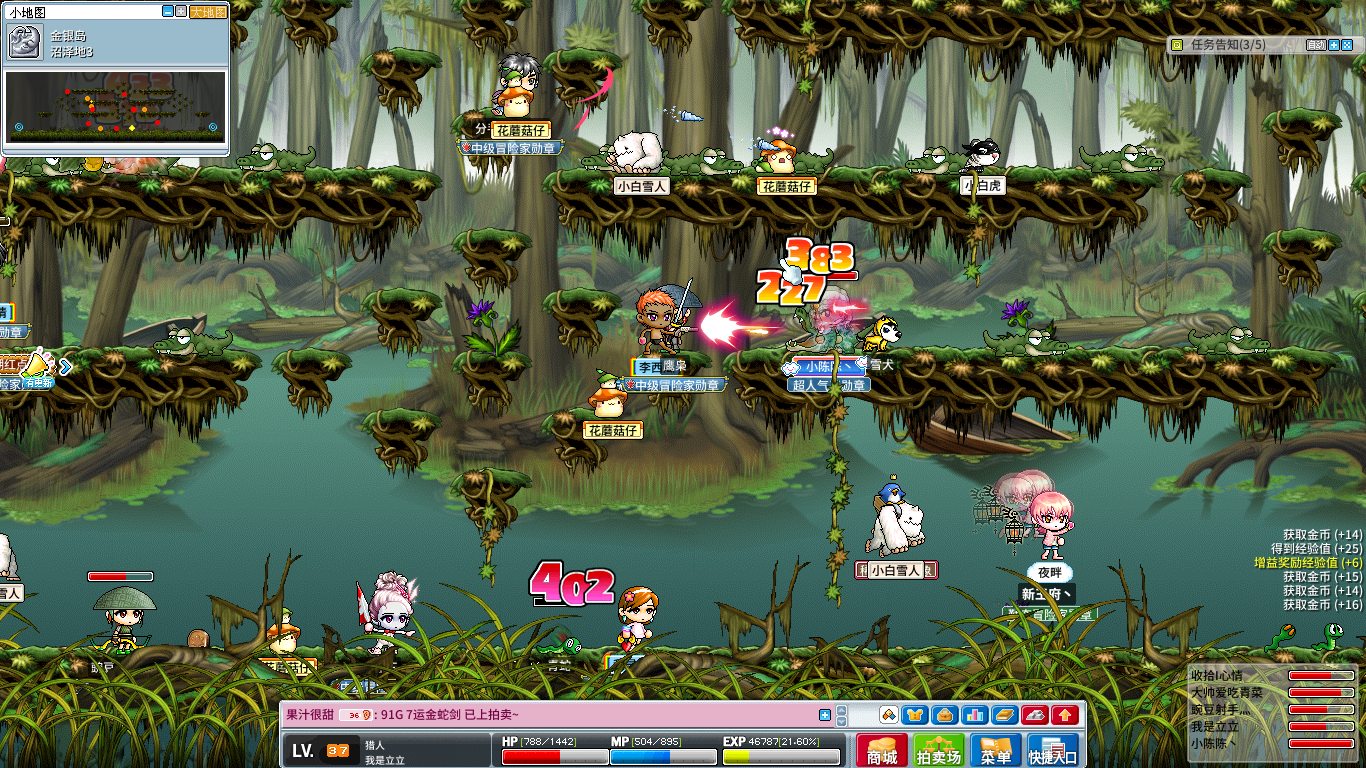monster: (1311, 623, 1344, 651)
